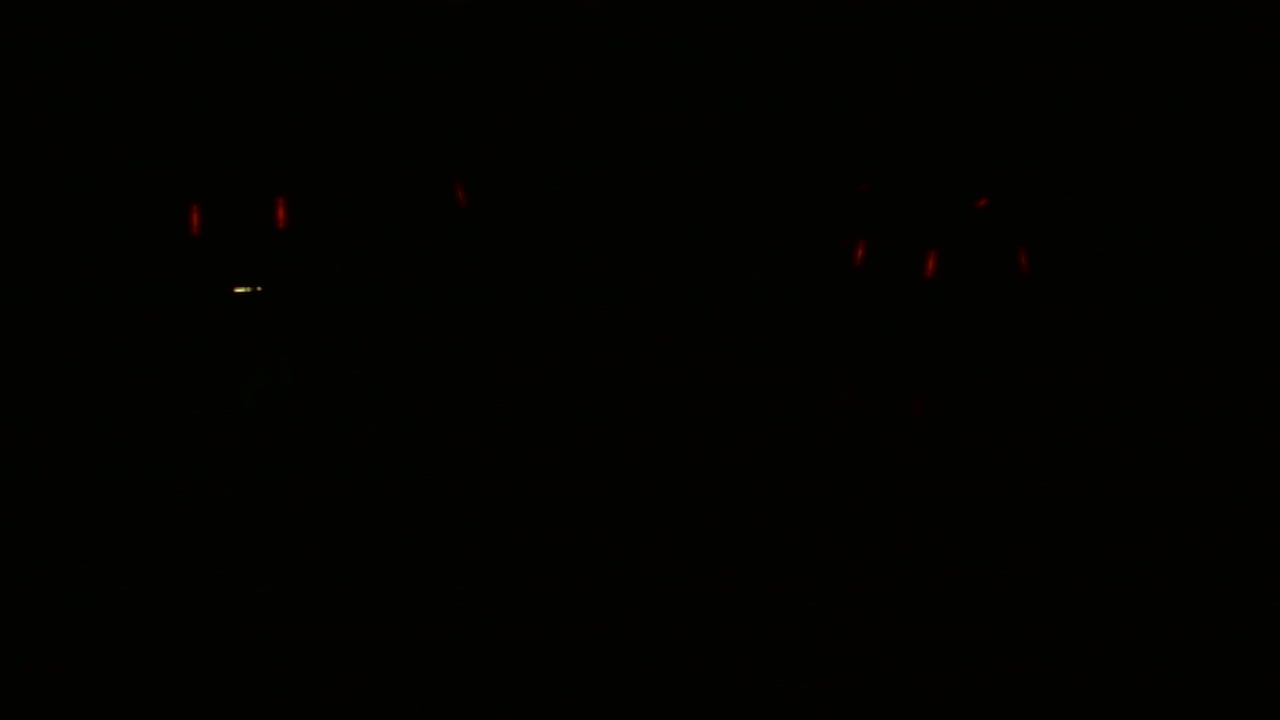pair1: (177, 187, 304, 250)
pair2: (848, 240, 942, 284)
